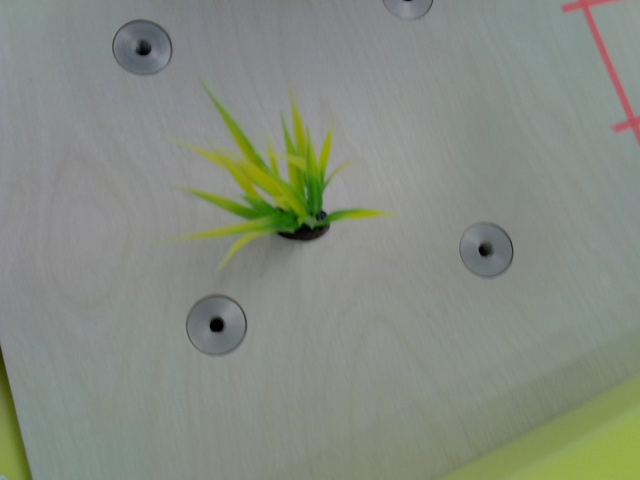해바라기새싹: (174, 83, 394, 265)
